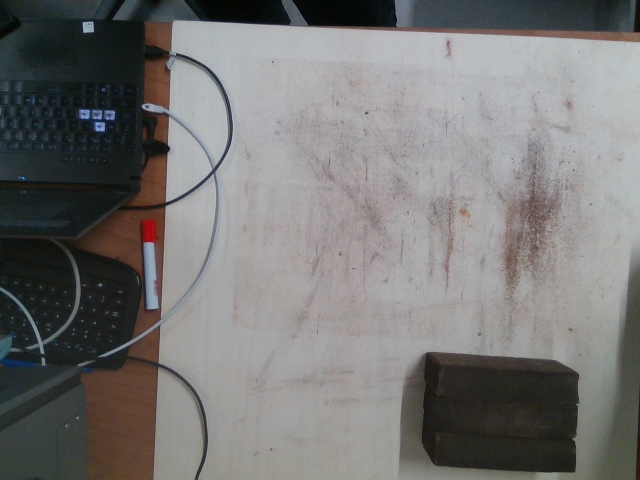brick-side: (438, 365, 575, 403), (440, 400, 577, 437), (439, 435, 576, 472)
